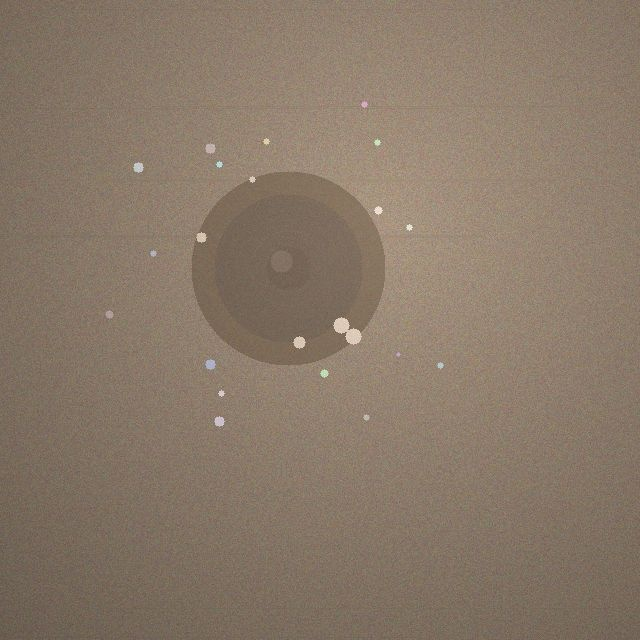overburn: (191, 171, 385, 365)
